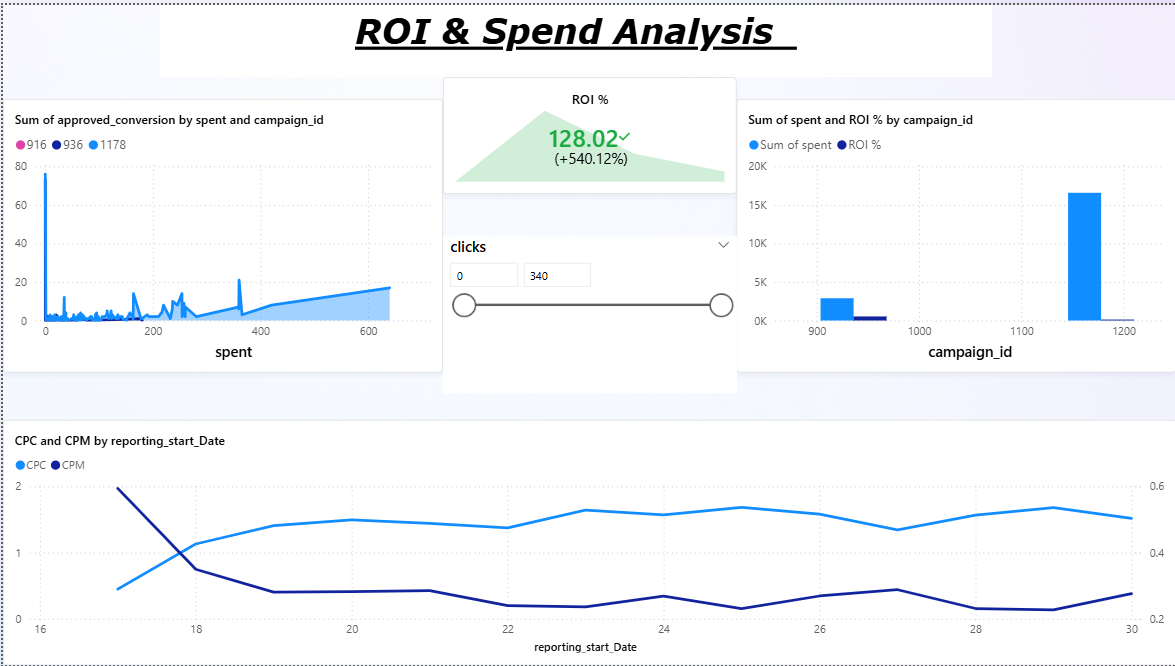

This screenshot's page, from the dashboard's own definition file:
{"tool":"powerbi","page":{"name":"Page 2","canvas":[1280,720],"ordinal":1},"visuals":[{"type":"stackedAreaChart","fields":{"Category":["data.spent"],"Y":["Sum(data.approved_conversion)"],"Series":["data.campaign_id"]},"box":[0,102.5,480,298.8],"z":0},{"type":"clusteredColumnChart","fields":{"Category":["data.campaign_id"],"Y":["Sum(data.spent)","data.ROI %"]},"box":[800,102.5,480,298.8],"z":1},{"type":"lineChart","fields":{"Category":["data.reporting_start_Date"],"Y":["data.CPC"],"Y2":["data.CPM"]},"box":[0,452.5,1280,267.5],"z":2},{"type":"slicer","fields":{"Values":["data.clicks"]},"box":[480,252.5,320,171.2],"z":3},{"type":"kpi","title":"ROI %","fields":{"TrendLine":["data.campaign_id"],"Goal":["data.Target ROI%"],"Indicator":["data.ROI %"]},"box":[480,78.8,320,127.5],"z":4},{"type":"textbox","box":[171.2,0,907.5,78.8],"z":5}]}

Visuals, with their boxes in screenshot pixels (x1, y1, x2, y2), scaled from the page's 1280x720 canvas onto the 1175x666 screenshot:
stackedAreaChart - data.spent x Sum(data.approved_conversion): bbox=[0, 95, 441, 371]
clusteredColumnChart - data.campaign_id x Sum(data.spent): bbox=[734, 95, 1174, 371]
lineChart - data.reporting_start_Date x data.CPC: bbox=[0, 419, 1174, 665]
slicer - data.clicks: bbox=[441, 234, 734, 392]
"ROI %" kpi: bbox=[441, 73, 734, 191]
textbox: bbox=[157, 0, 990, 73]
